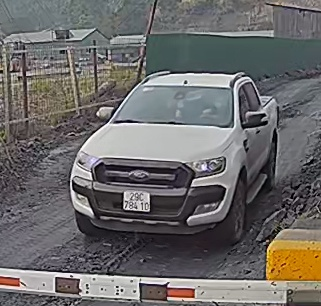vehicle plate: (122, 188, 154, 214)
